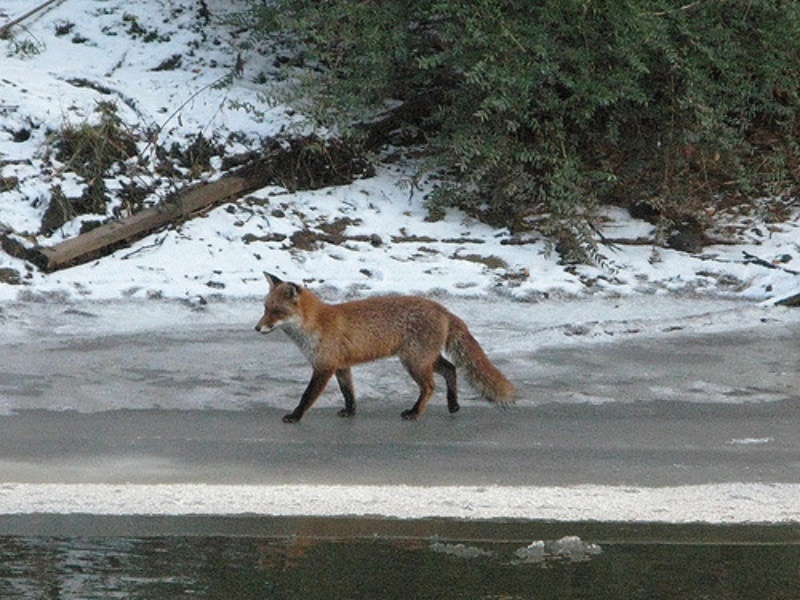fox: (253, 269, 521, 427)
